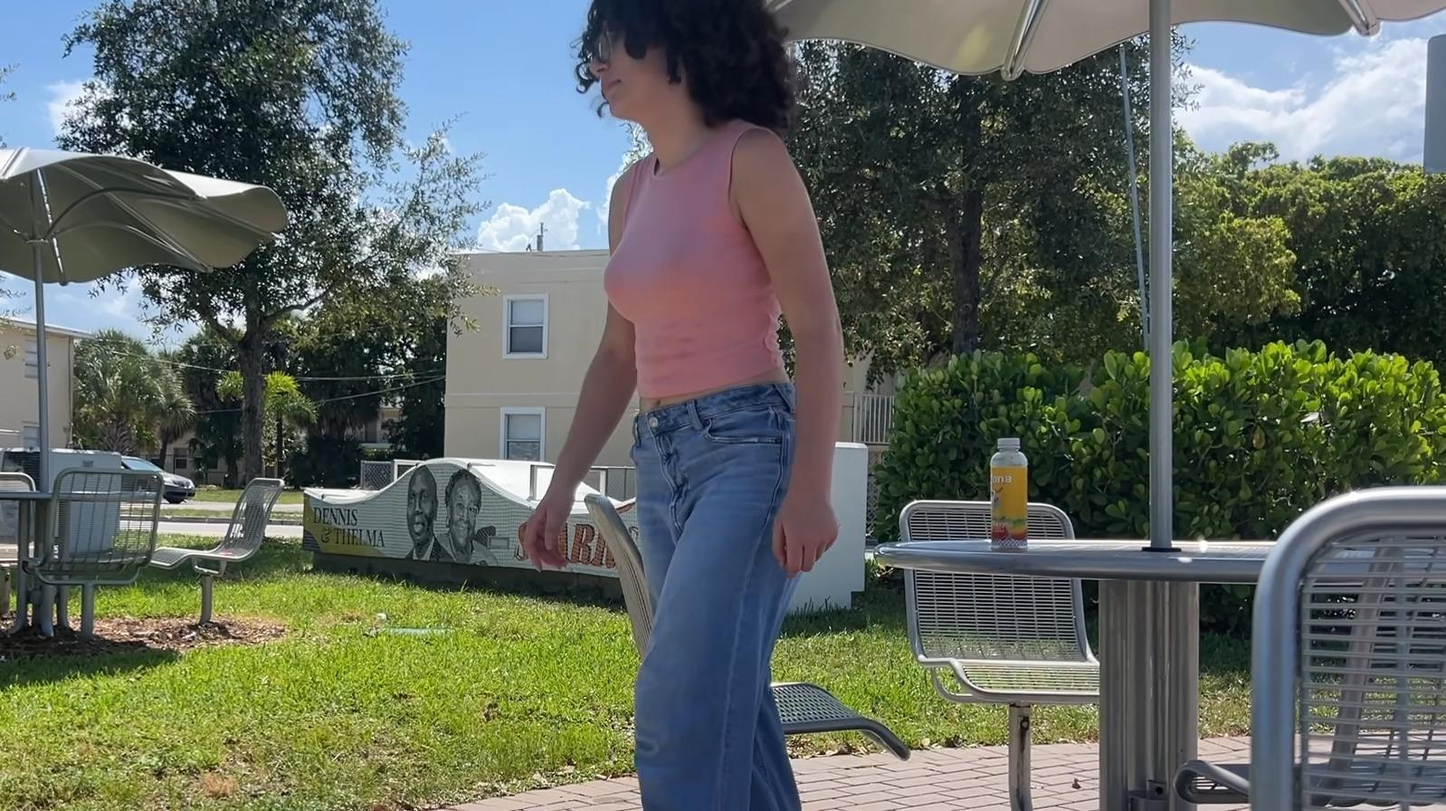Trash: (975, 422, 1044, 567)
